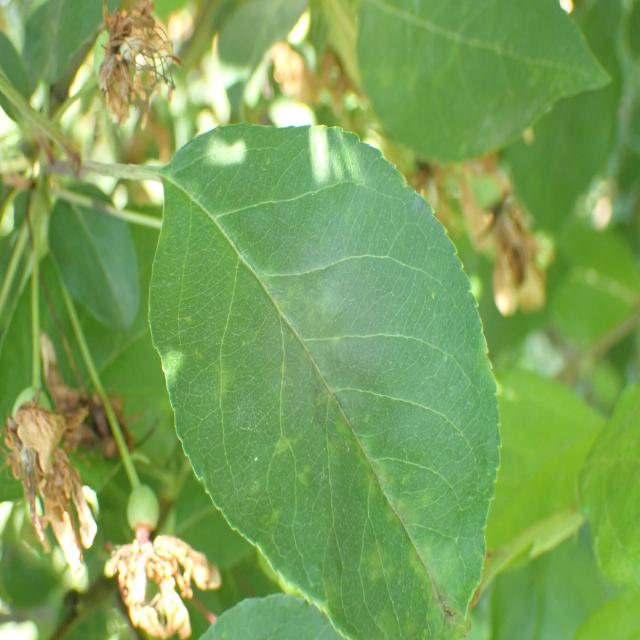scab: (217, 190, 463, 634)
